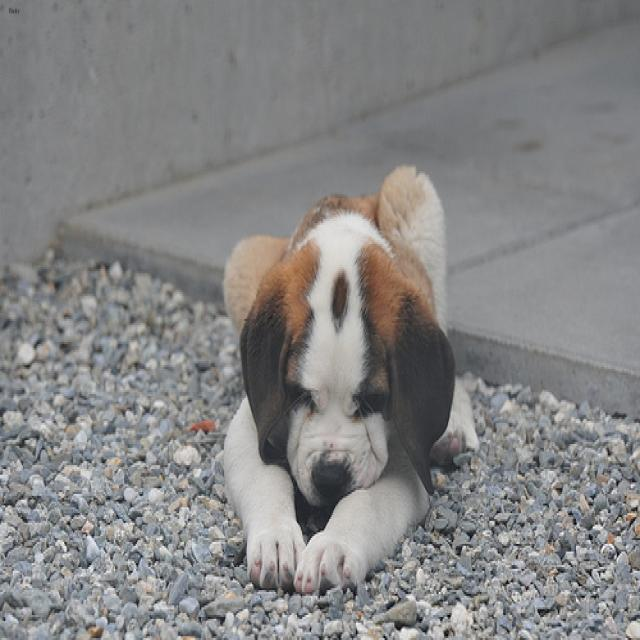dog-saint_bernard: (210, 160, 480, 607)
